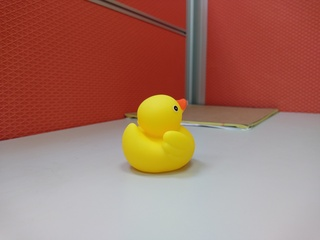duck: (112, 89, 204, 181)
